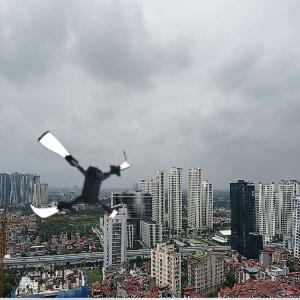drone: (22, 126, 130, 234)
